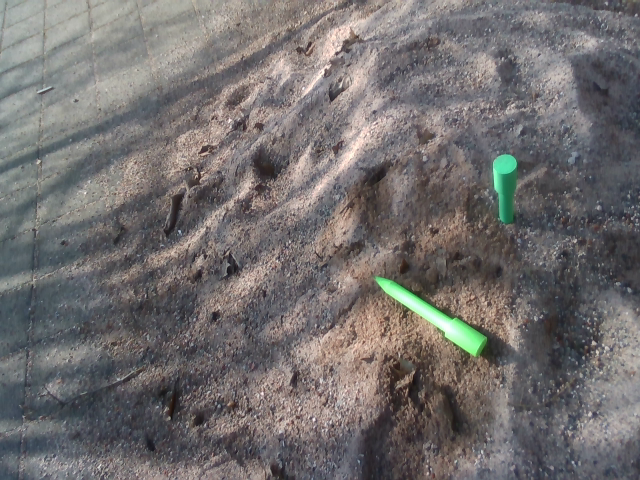Probe: (371, 270, 490, 360), (490, 151, 519, 229)
